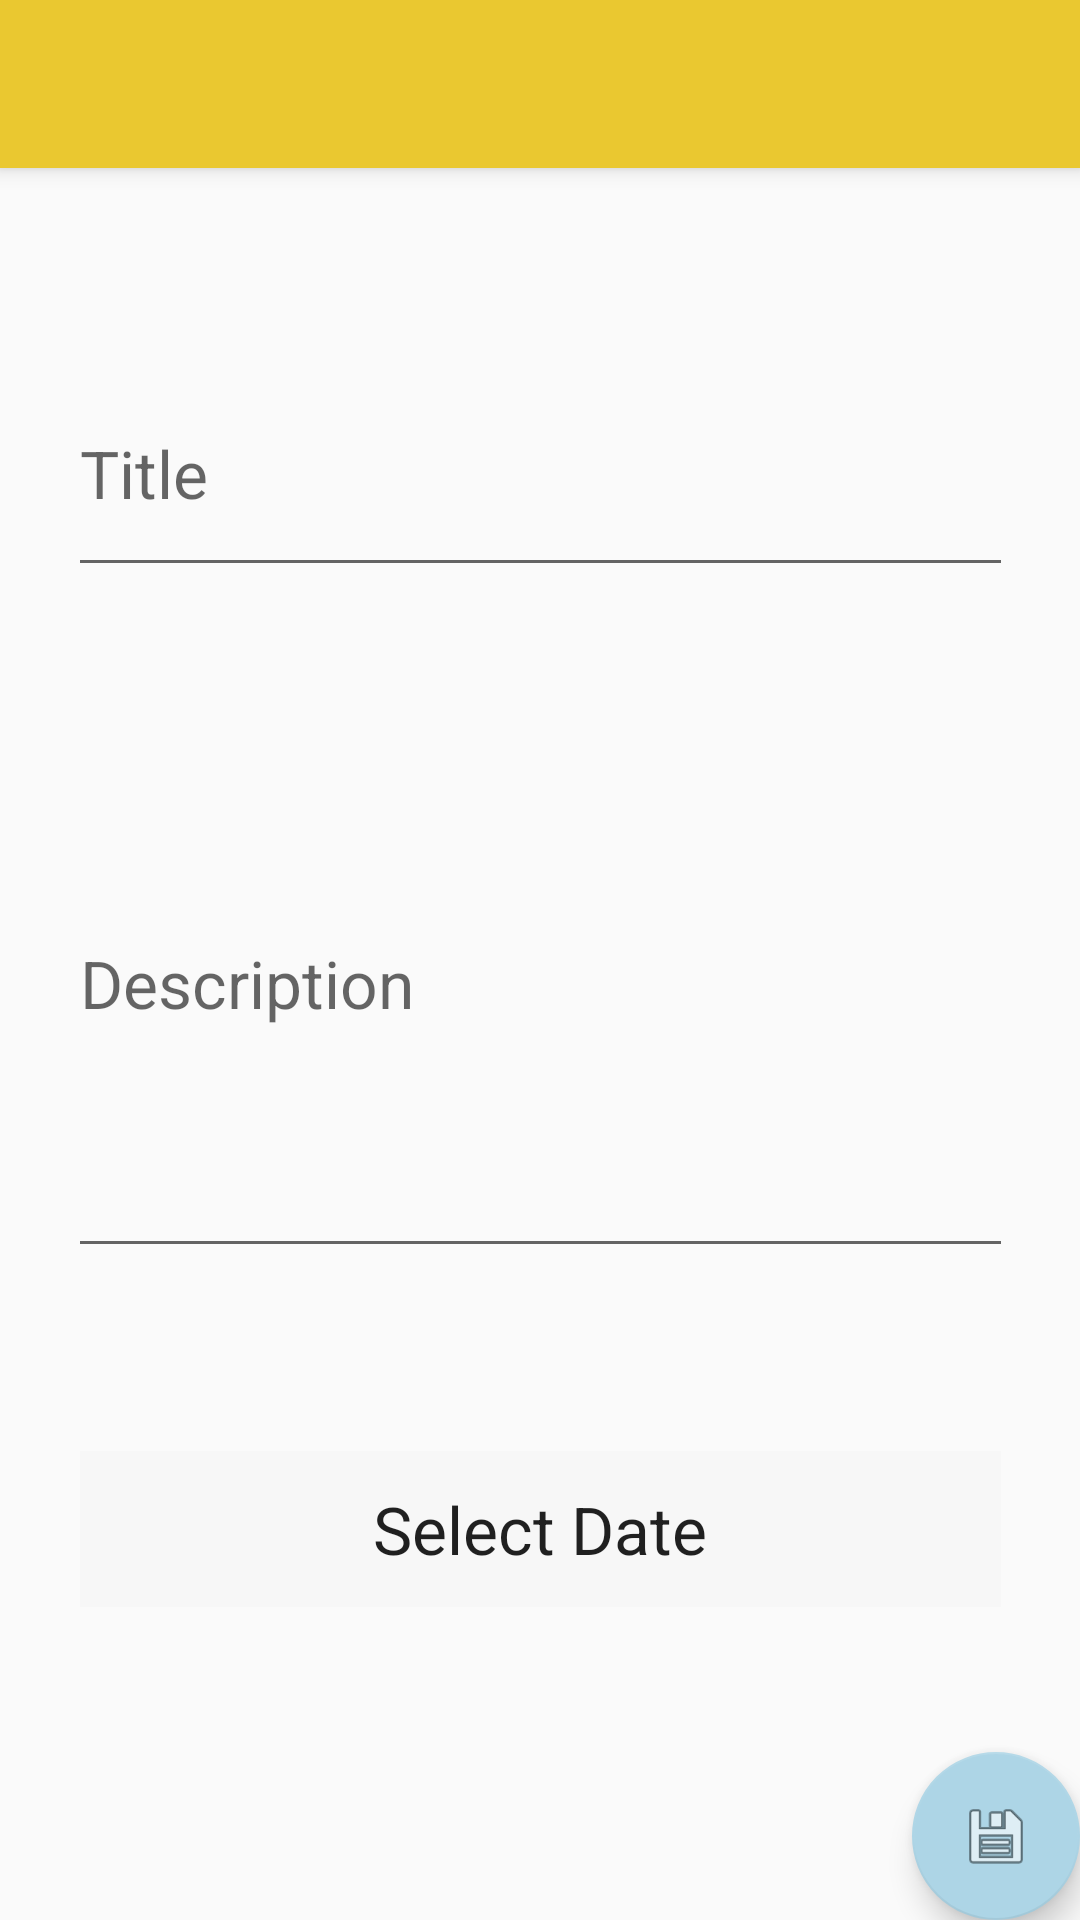

Icons on this 1080x1920 Android screen, each with the point to tap as point (x, y):
save: point (996, 1836)
